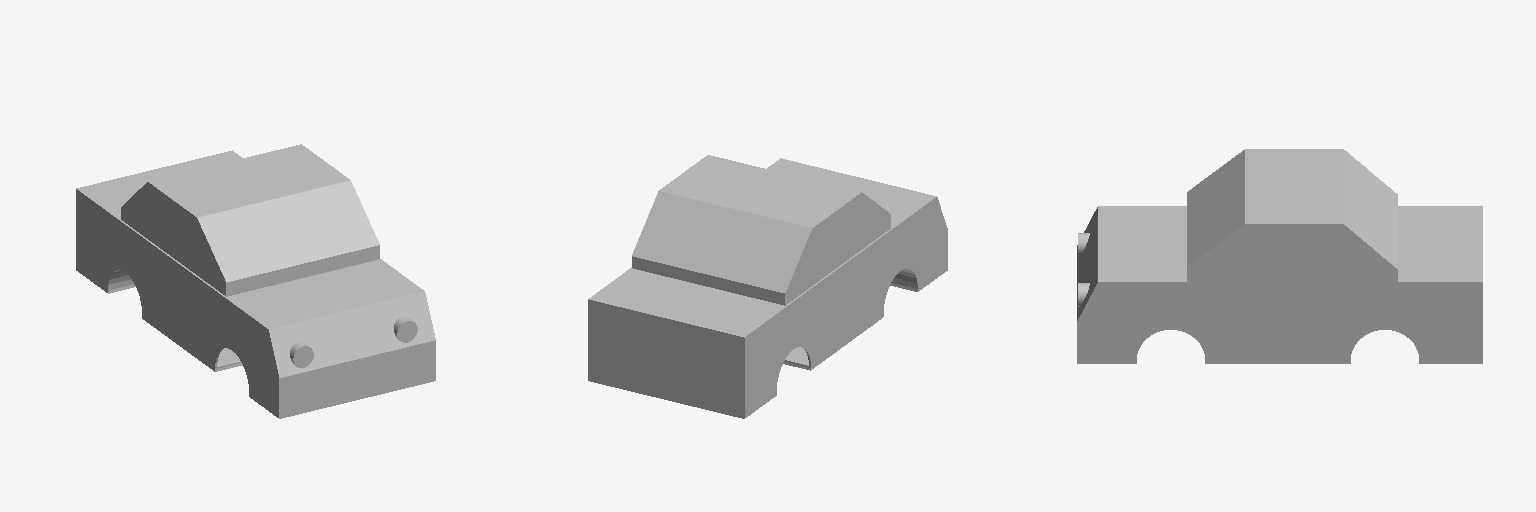
Rendered from car.obj.
The picture shows the model from 3 angles: view 1: azimuth 30°, elevation 25°; view 2: azimuth 150°, elevation 25°; view 3: azimuth 270°, elevation 25°; orthographic projection.
Size of the model in its own units: 0.6678 by 0.5679 by 1.5.